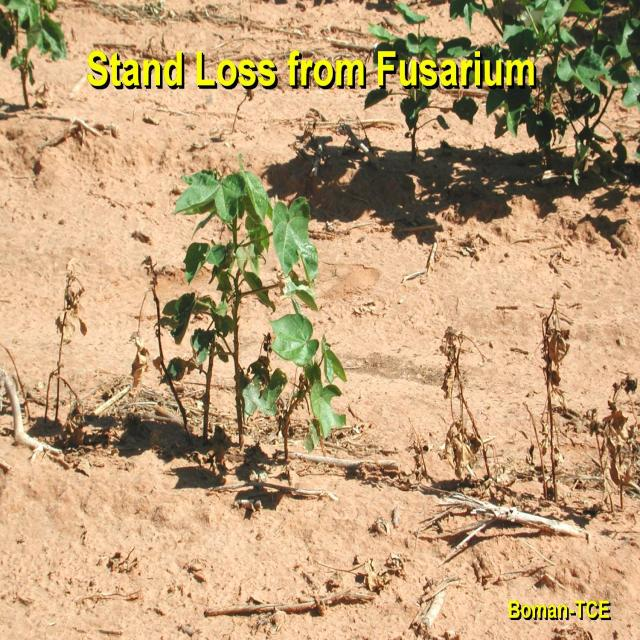Fusarium Wilt: (42, 178, 640, 558)
